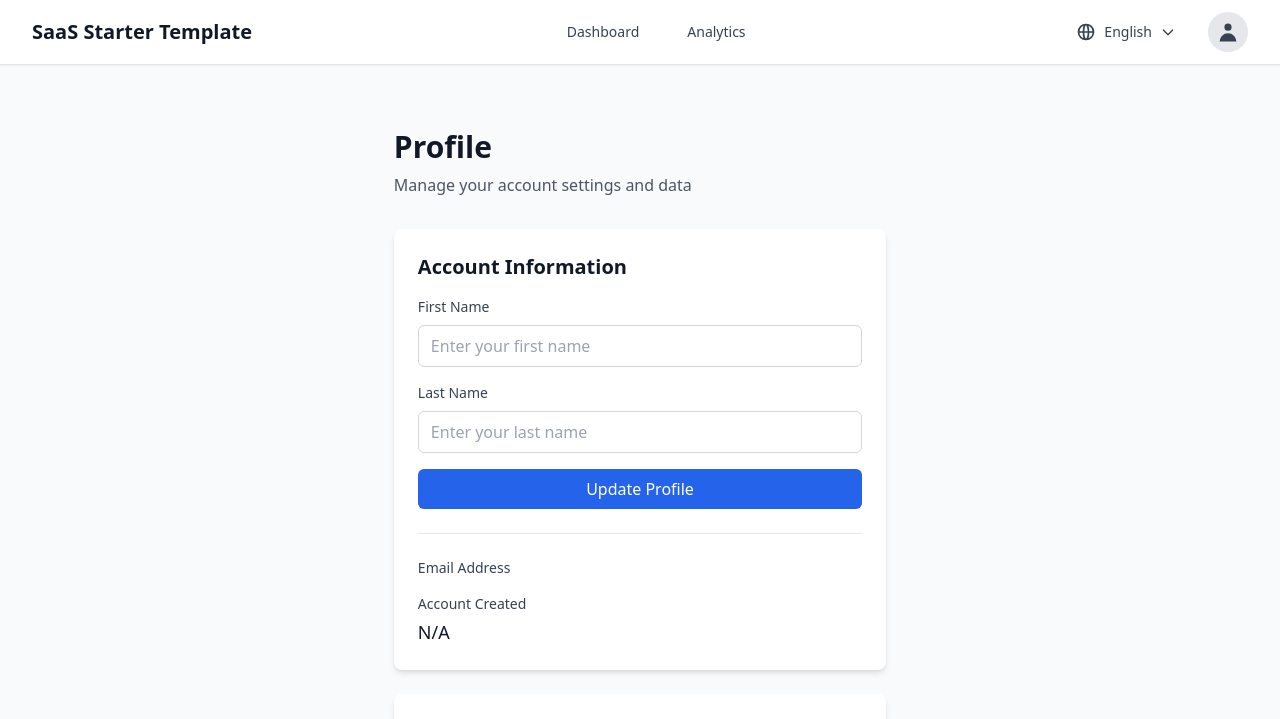
Scenario: Profile - Name Editing Form › Form submission › should display success message after successful update
The width and height of the screenshot is (1280, 719).
# Fill in and submit the form
Type "Jane" into the field labelled "First Name" at (640, 346), box [418,325,862,367]
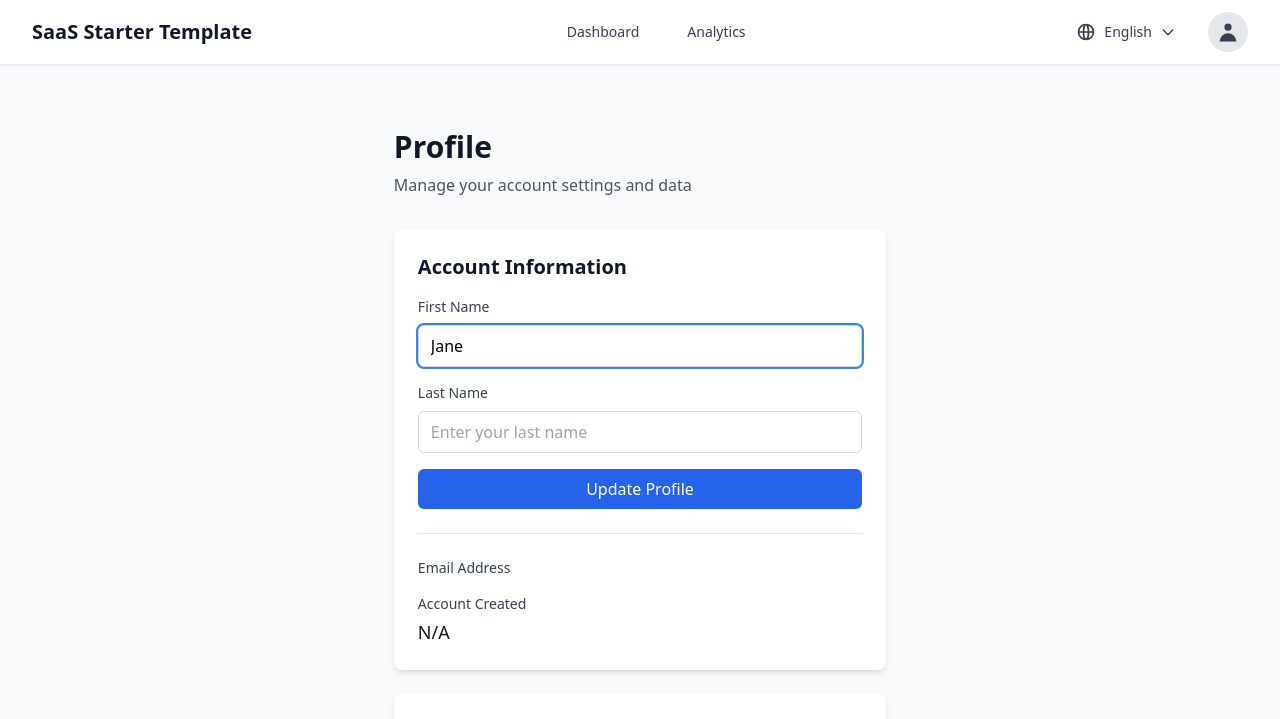
Type "Smith" into the field labelled "Last Name" at (640, 432), box [418,411,862,453]
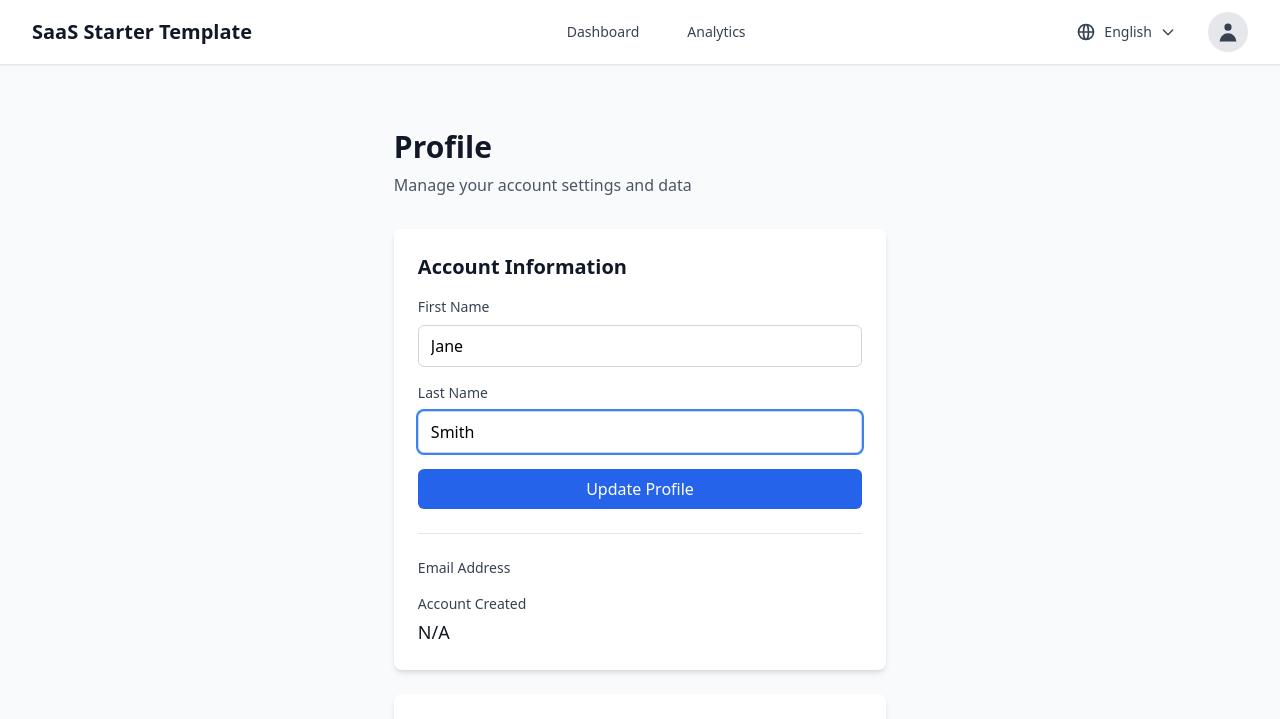
Click the button "Update Profile" at (640, 489), box [418,469,862,509]
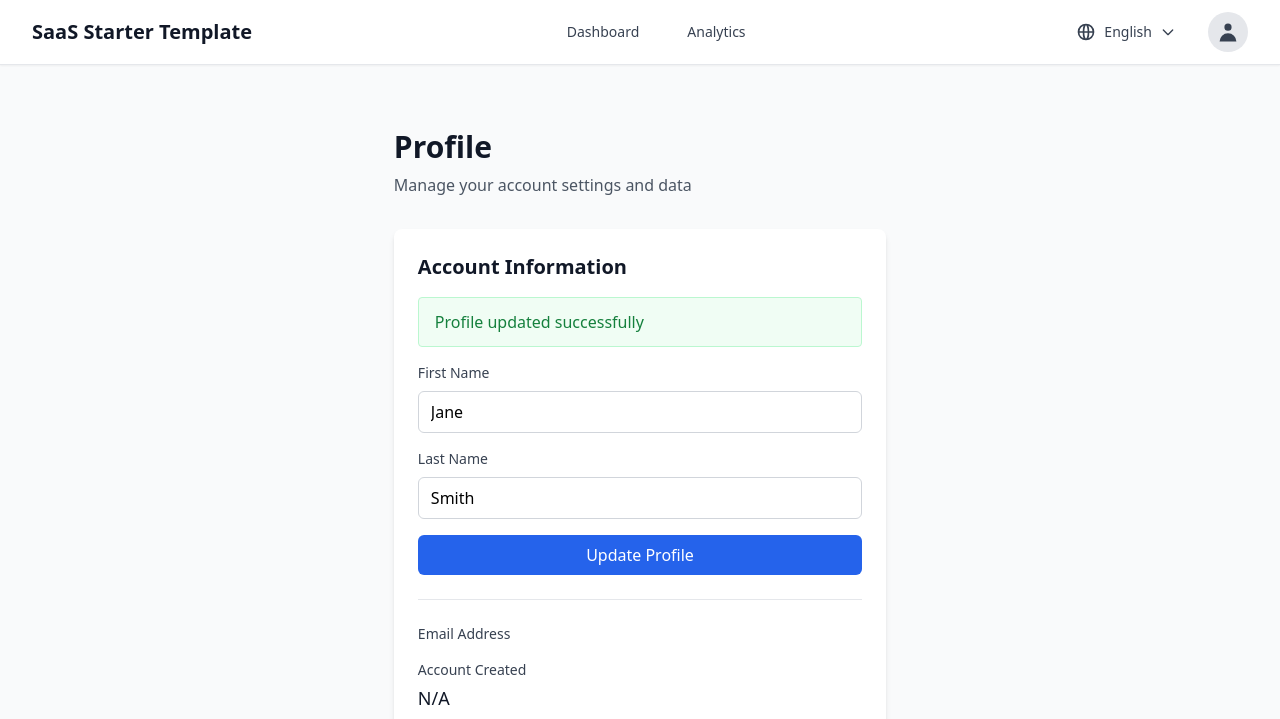
Expected: the text "Profile updated successfully" is shown, [418,297,862,347]
